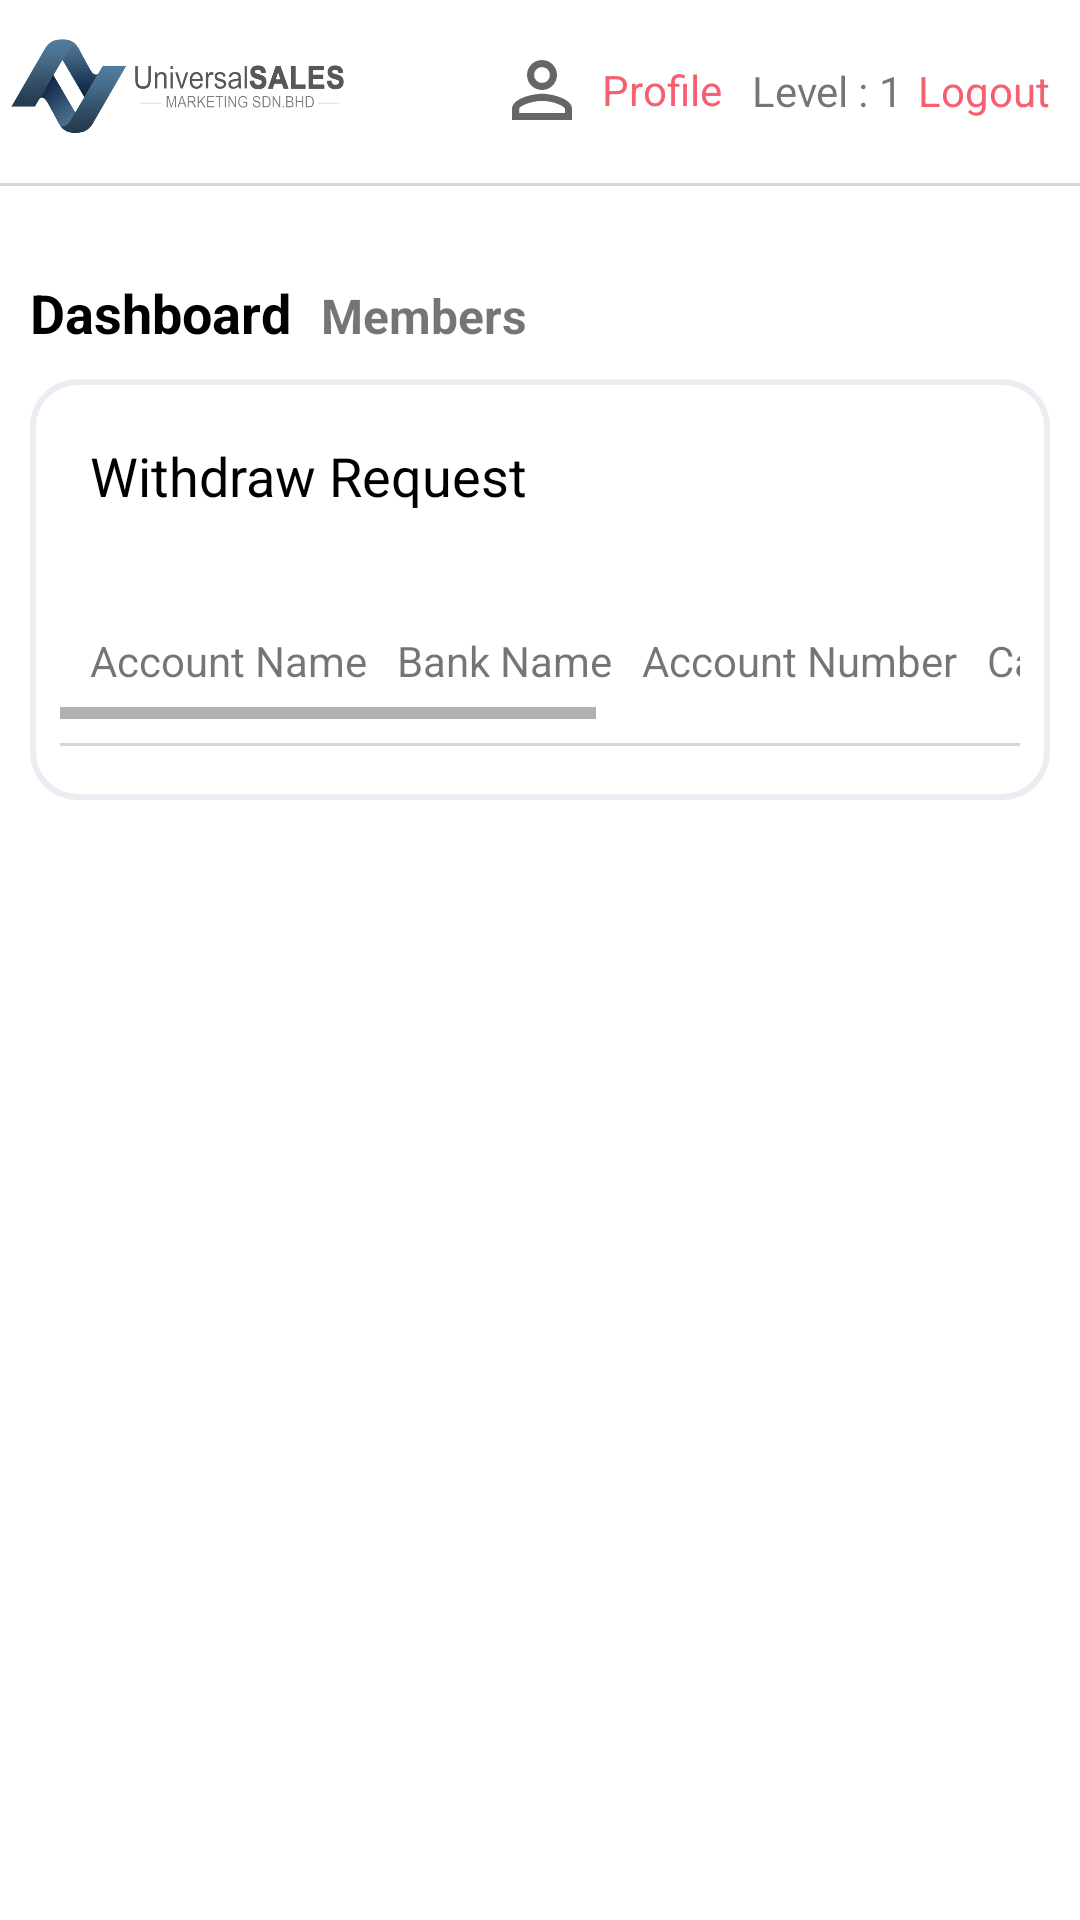

Point at icon controls on the screen. Image size 1080x1920, points as [x,y].
person: [542,90]
